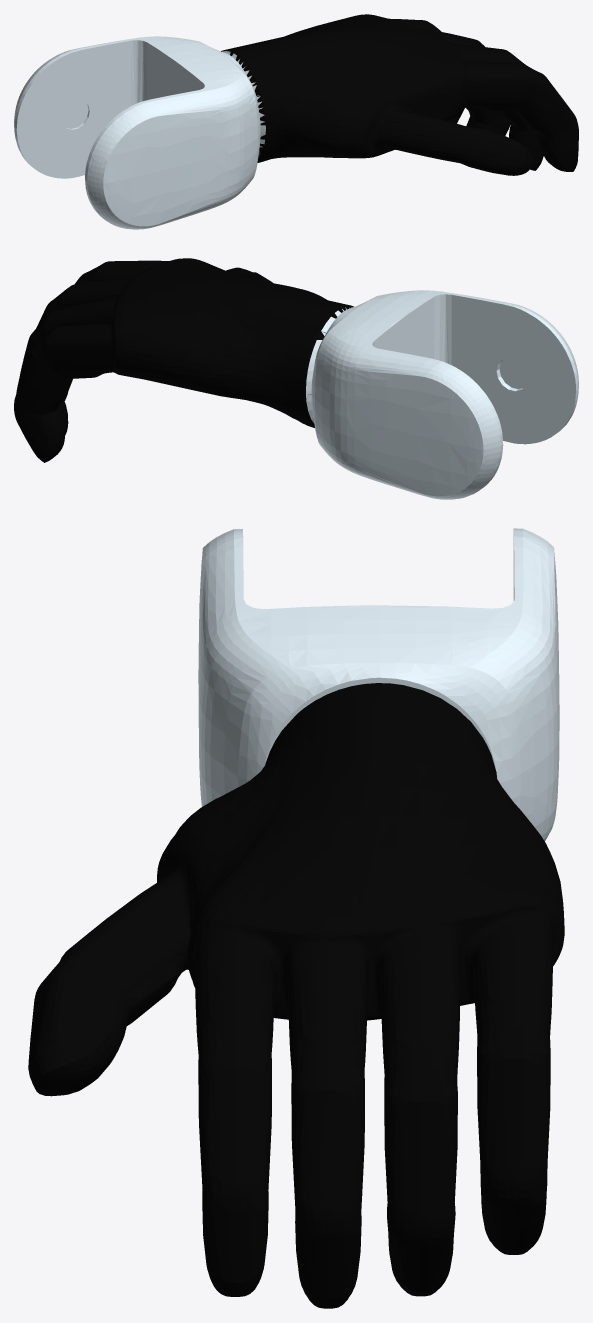
File: left_wrist_yaw_link.dae
The picture shows the model from 3 angles, top to bottom: view 1: azimuth 30°, elevation 25°; view 2: azimuth 150°, elevation 25°; view 3: azimuth 270°, elevation 25°; orthographic projection. The views are drawn at different scales.
Visible parts, largest first — view 1: left_wrist_yaw_link; view 2: left_wrist_yaw_link; view 3: left_wrist_yaw_link.
Boxes of the visible parts, x1=… form: left_wrist_yaw_link: x1=14, y1=14, x2=578, y2=229; left_wrist_yaw_link: x1=14, y1=258, x2=578, y2=499; left_wrist_yaw_link: x1=28, y1=528, x2=564, y2=1308.
Bounding box in the file's own units: 0.2405 × 0.0902 × 0.1142.
